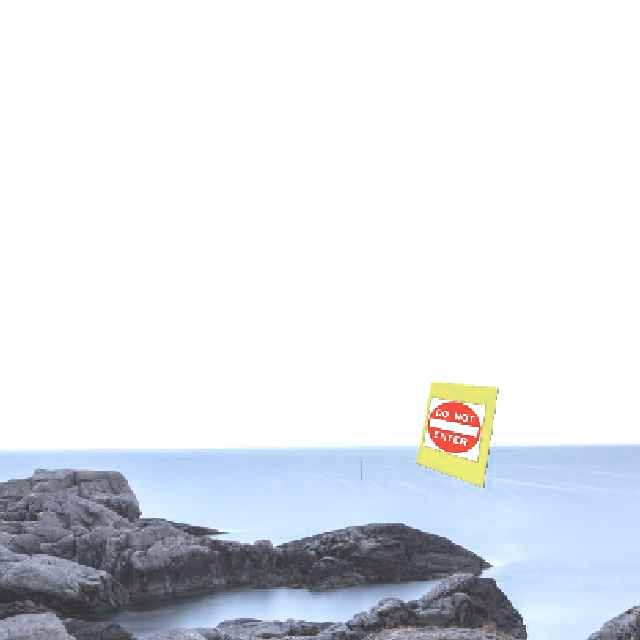DO_NOT_ENTER: (421, 393, 485, 461)
